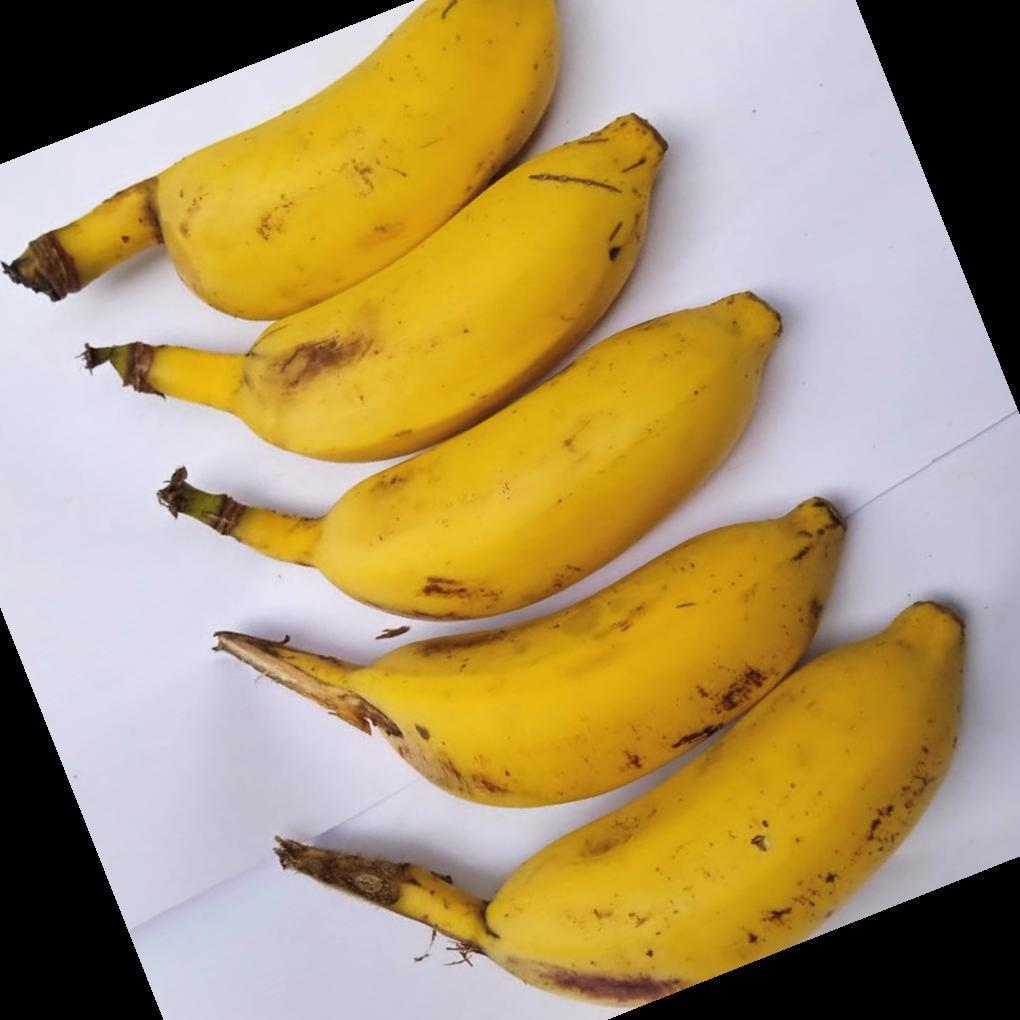Banana Ripe: (62, 7, 977, 1020), (412, 616, 1020, 1003), (195, 506, 866, 783), (283, 280, 790, 630), (189, 116, 685, 459)
